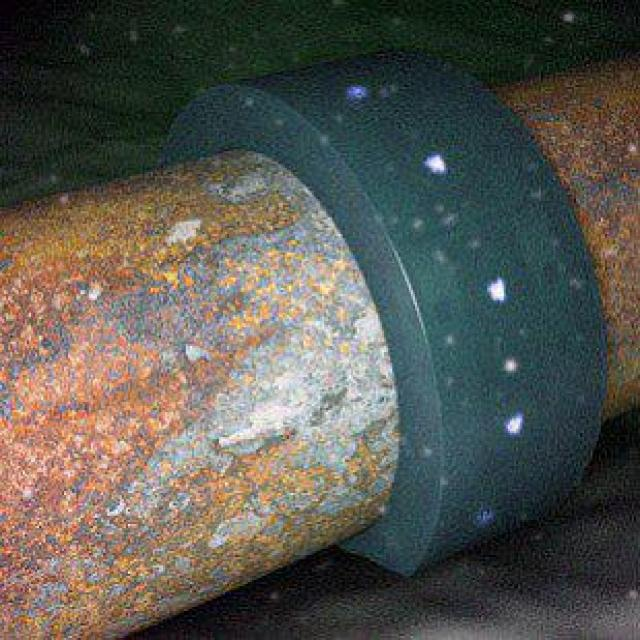non-corrosion: (0, 97, 407, 640), (495, 42, 640, 432)
